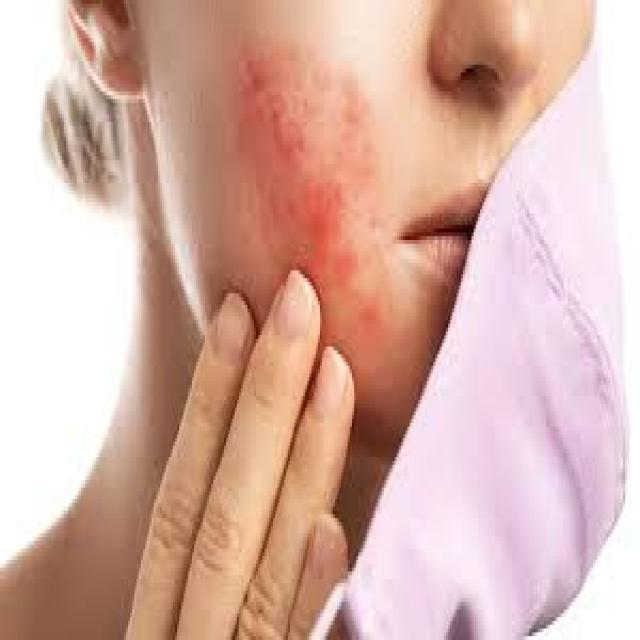Eczema: (238, 50, 370, 273)
